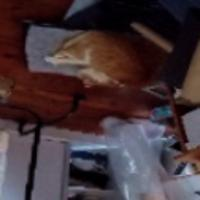asleep: (42, 25, 171, 91)
